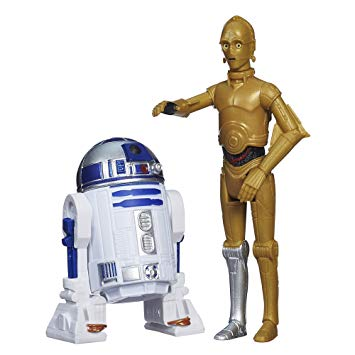r2d2: (46, 138, 205, 343)
